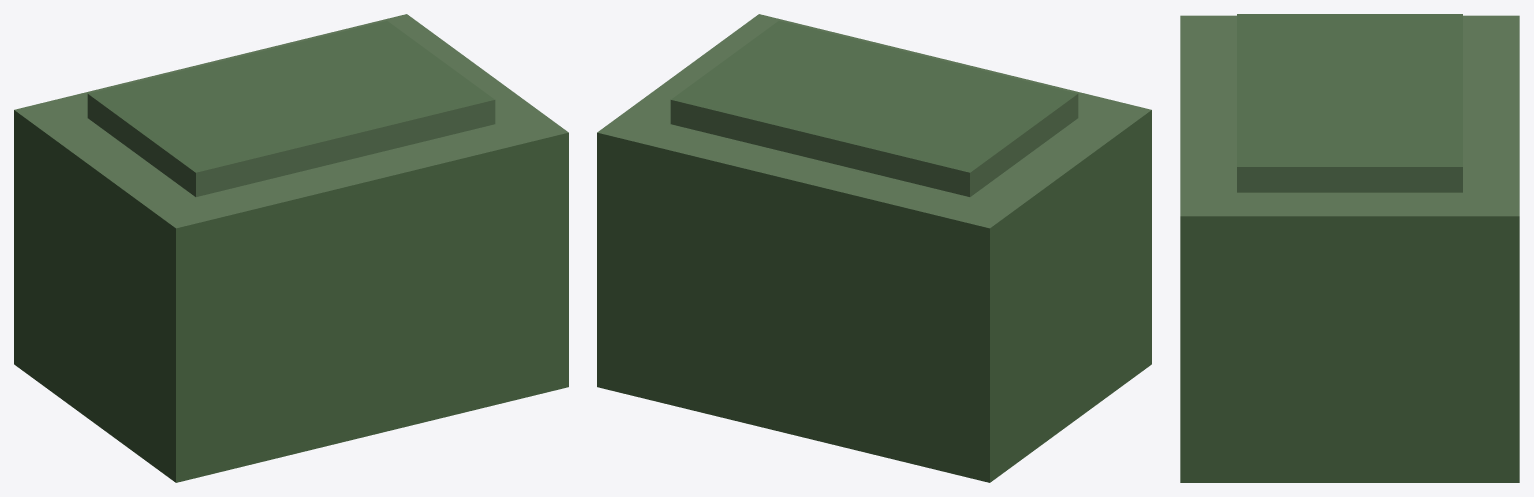
Rendered from bush_hedge.glb.
The picture shows the model from 3 angles, left to right: view 1: azimuth 30°, elevation 25°; view 2: azimuth 150°, elevation 25°; view 3: azimuth 270°, elevation 25°; orthographic projection. The views are drawn at different scales.
Visible parts, largest first — view 1: bush_hedge; view 2: bush_hedge; view 3: bush_hedge.
Part boxes in pixels (x1,y1,x2,y2): bush_hedge: [14, 14, 568, 482]; bush_hedge: [597, 14, 1151, 482]; bush_hedge: [1180, 14, 1519, 482].
Size of the model in its own units: 0.84 by 0.57 by 0.6.
